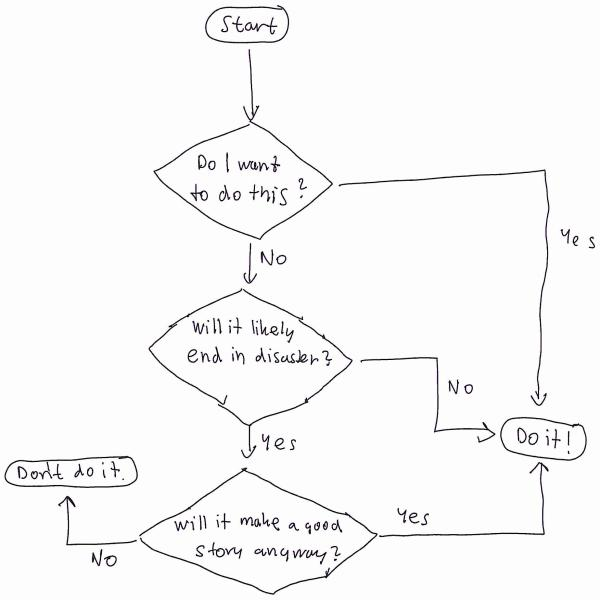arrow: (334, 151, 560, 410), (383, 443, 561, 577), (356, 340, 497, 461), (46, 496, 142, 562), (238, 54, 268, 131), (521, 363, 554, 404), (464, 412, 497, 449), (524, 450, 550, 488), (238, 237, 257, 286), (236, 425, 258, 467), (57, 493, 79, 525)
decision: (136, 470, 383, 595), (147, 286, 353, 426), (153, 123, 332, 236)
terminator: (4, 457, 141, 488), (499, 419, 586, 462), (202, 7, 288, 45), (247, 103, 261, 114)
text: (189, 317, 330, 376), (188, 152, 306, 211), (564, 213, 600, 266), (217, 13, 273, 39), (14, 467, 125, 480), (260, 434, 309, 462), (396, 498, 438, 527), (252, 244, 290, 271), (87, 552, 122, 570), (448, 372, 471, 397)
